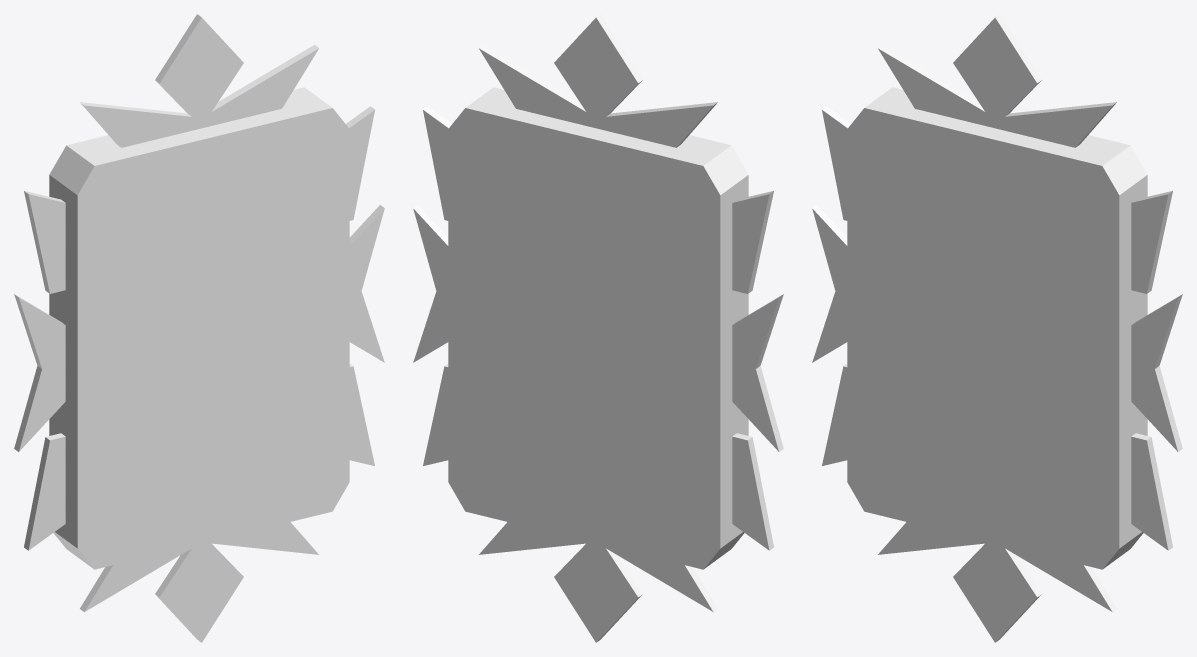
The model's file is cardChaotic.fbx.
3 renders of one model, left to right at view 1: azimuth 30°, elevation 25°; view 2: azimuth 150°, elevation 25°; view 3: azimuth 330°, elevation 25°, orthographic.
Visible parts, largest first — view 1: emission; view 2: emission; view 3: emission.
Boxes of the visible parts, box(x1,y1,x2,y2) form: emission: box(14, 14, 384, 642); emission: box(413, 14, 783, 642); emission: box(812, 14, 1182, 642).
Size of the model in its own units: 140 by 229 by 18.75.
Materials: 1 (1 with a texture image).
